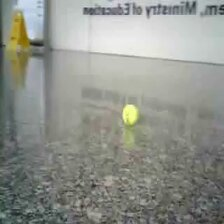tennis: (121, 104, 138, 127)
